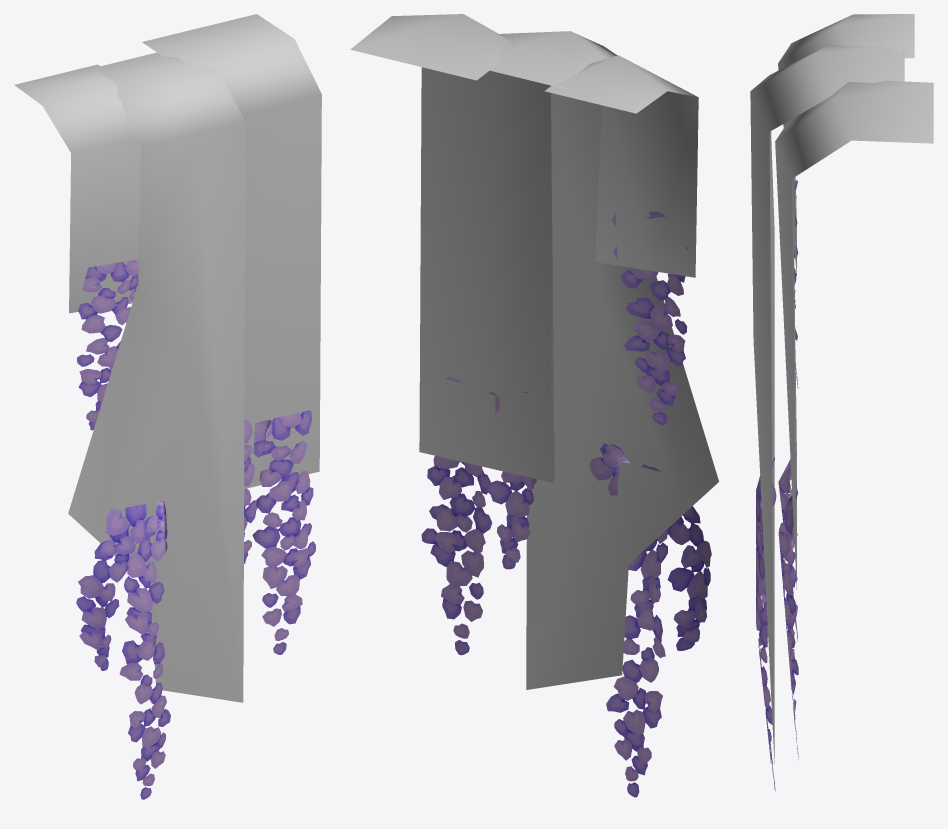
Rendered from SM_Env_Vines_Preset_Overhang_04.fbx.
3 views of the same model, side by side, from view 1: azimuth 30°, elevation 25°; view 2: azimuth 150°, elevation 25°; view 3: azimuth 270°, elevation 25° (orthographic). The views are drawn at different scales.
Visible parts, largest first — view 1: SM_Env_Vines_Preset_Overhang_04; view 2: SM_Env_Vines_Preset_Overhang_04; view 3: SM_Env_Vines_Preset_Overhang_04.
Boxes of the visible parts, x1,y1,x2,y2 form: SM_Env_Vines_Preset_Overhang_04: (14,14,321,799); SM_Env_Vines_Preset_Overhang_04: (350,14,718,797); SM_Env_Vines_Preset_Overhang_04: (750,14,933,791).
Size of the model in its own units: 111 by 284 by 61.13.
